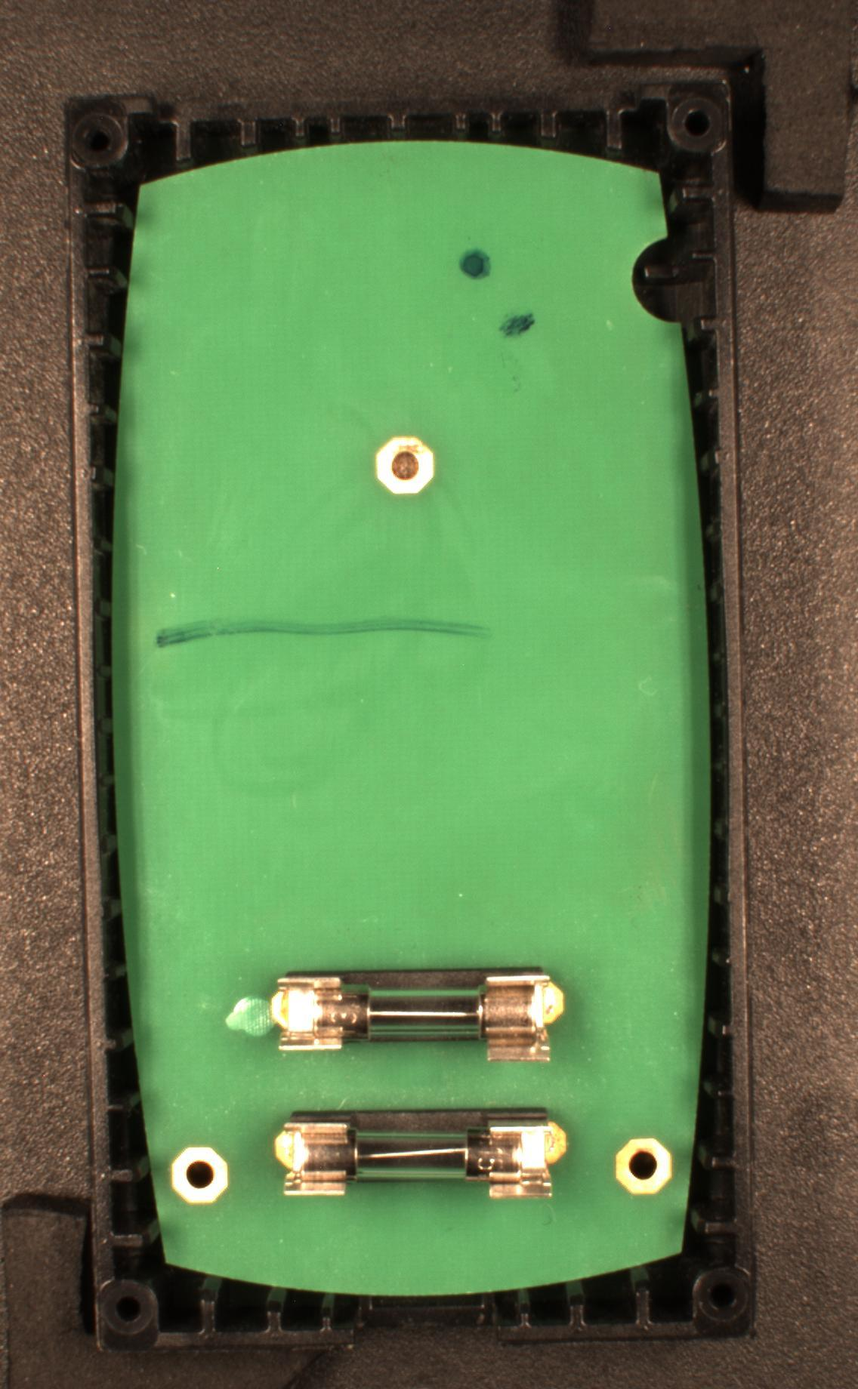Linijsko Ostecene: (154, 618, 492, 651)
Tockasto Ostecenje: (456, 247, 495, 281), (497, 310, 539, 339)
